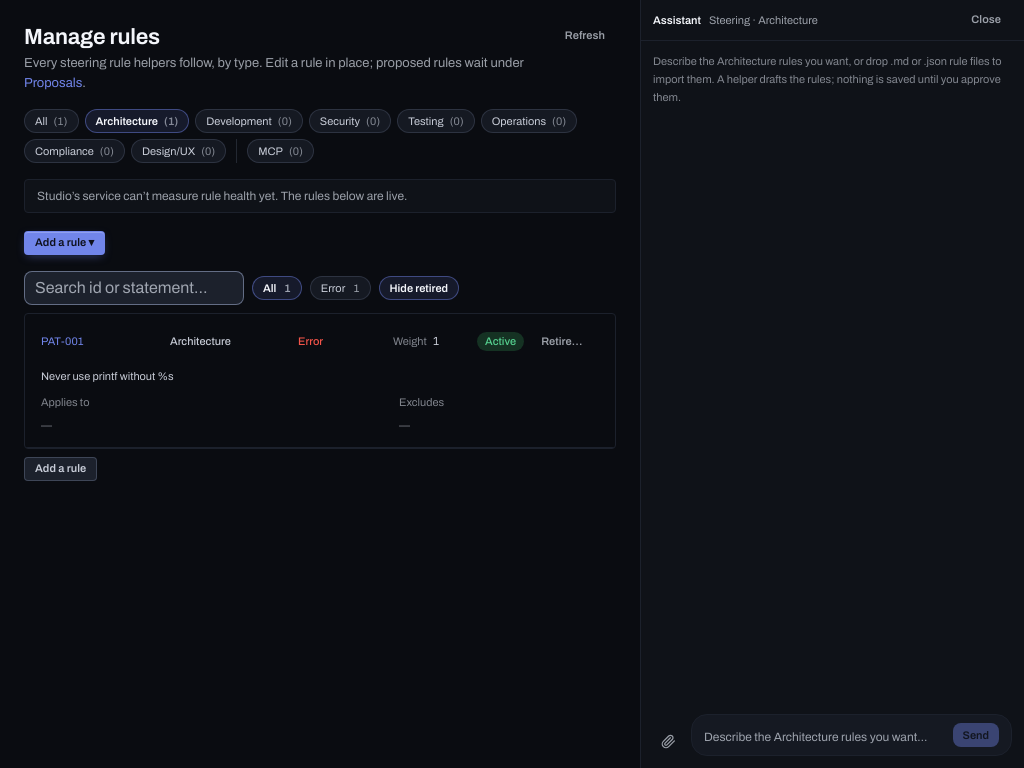
Scenario: SteeringPage — the grid + the drawer › flags a legacy digest-less ref as needing re-ingest instead of inventing a sha
The image size is (1024, 768).
Click the button with test id "steering-grid-id" at (92, 341), box [35,329,149,353]
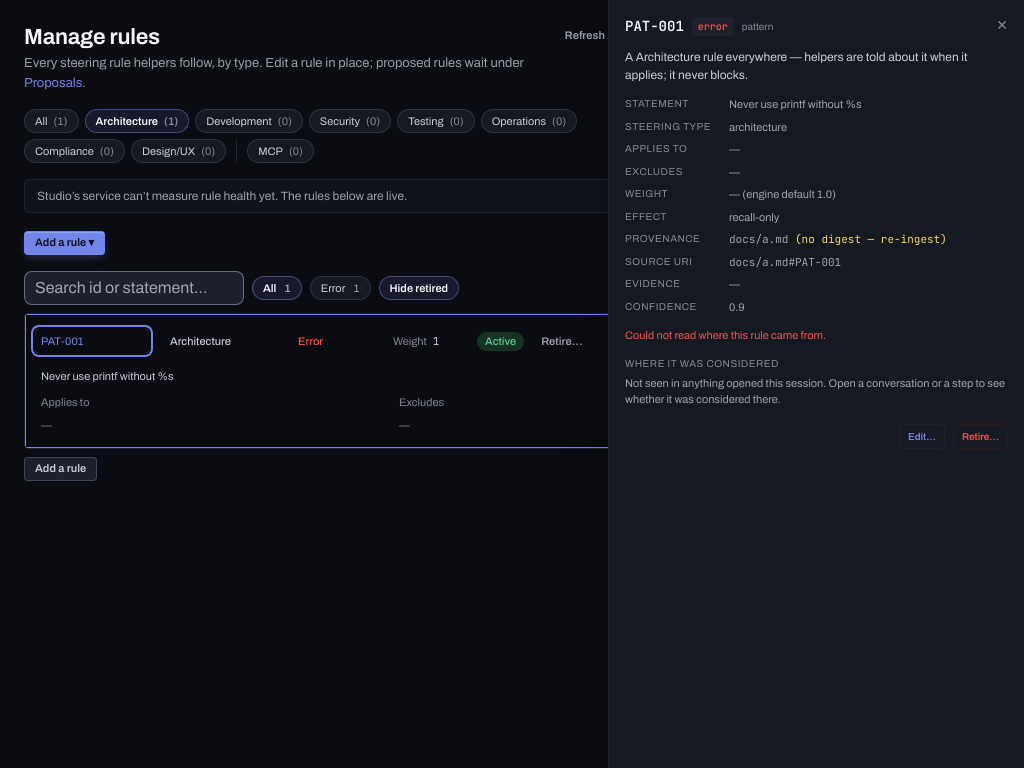
Check: the element with test id "steering-rule-provenance" shows "no digest — re-ingest", box [795,232,947,246]
